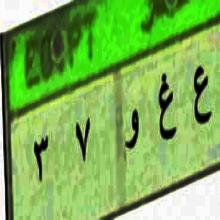3: (32, 132, 51, 187)
7: (73, 113, 93, 165)
ain: (189, 62, 212, 134)
ghayn: (155, 69, 178, 143)
waw: (123, 110, 140, 156)
